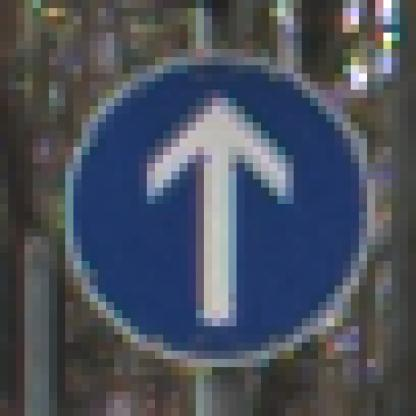AheadOnly: (50, 42, 376, 376)
